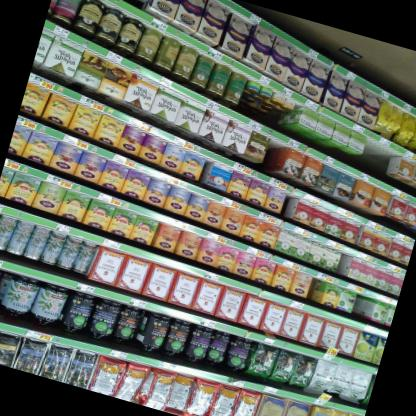empty_space: (357, 137, 402, 164)
